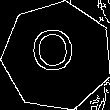O_S: (33, 29, 81, 83)
